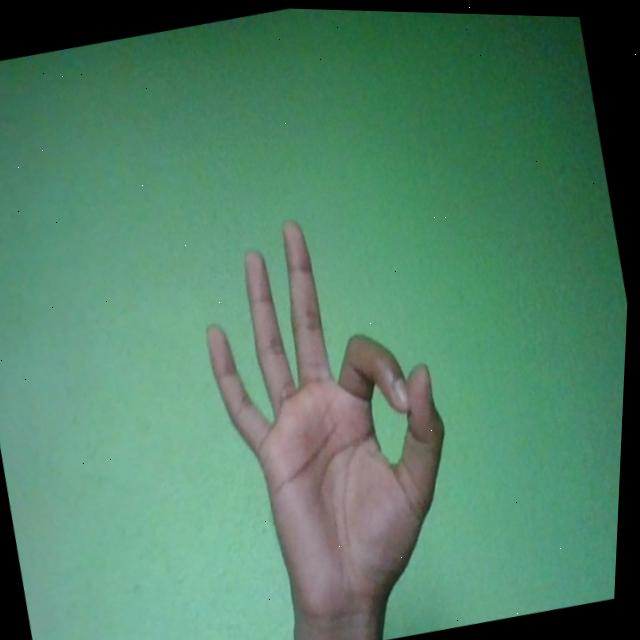Ok: (177, 191, 492, 640)
